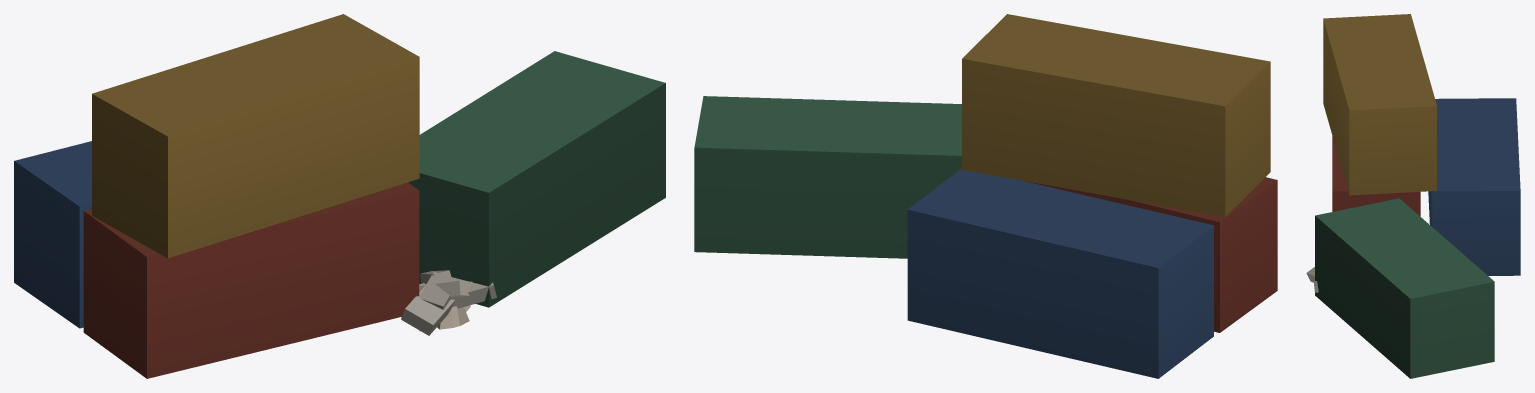
Rendered from L18D_ContainersA.fbx.
3 renders of one model, left to right at view 1: azimuth 30°, elevation 25°; view 2: azimuth 150°, elevation 25°; view 3: azimuth 270°, elevation 25°, orthographic. The views are drawn at different scales.
Visible parts, largest first — view 1: L18D_ContainersA; view 2: L18D_ContainersA; view 3: L18D_ContainersA.
Part boxes in pixels (x1,y1,x2,y2): L18D_ContainersA: (14,14,665,378); L18D_ContainersA: (694,14,1277,378); L18D_ContainersA: (1306,14,1520,378).
Bounding box in the file's own units: 12.81 × 5.53 × 5.92.
